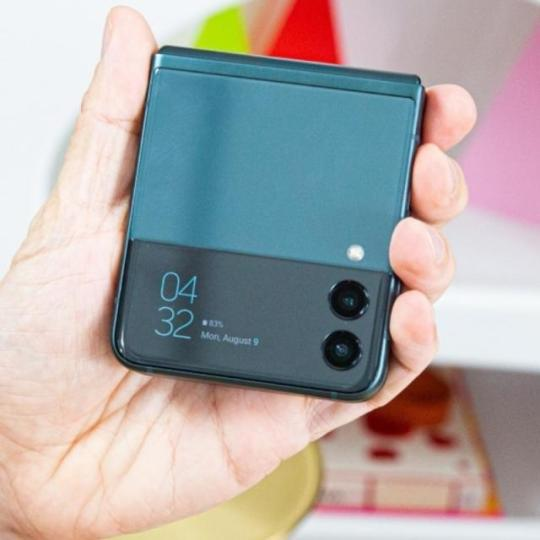phone: (111, 43, 432, 402)
